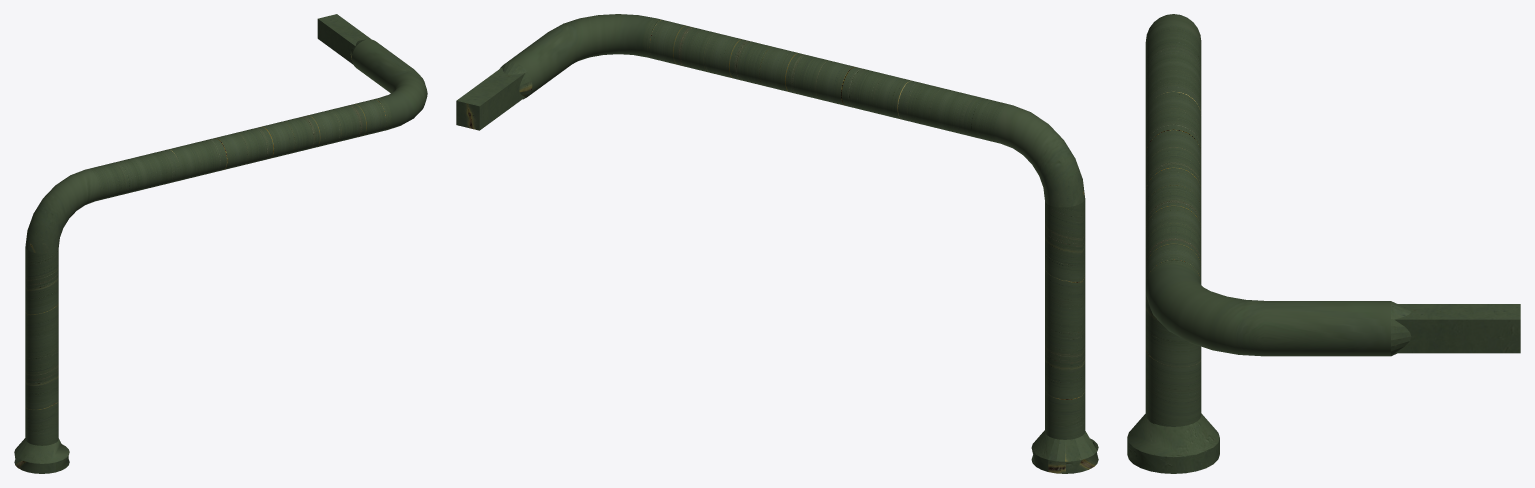
File: 引风大窑连接管.glb
3 renders of one model, left to right at view 1: azimuth 30°, elevation 25°; view 2: azimuth 150°, elevation 25°; view 3: azimuth 270°, elevation 25°, orthographic. The views are drawn at different scales.
Visible parts, largest first — view 1: root; view 2: root; view 3: root.
Part boxes in pixels (<box>): root: <box>14,14,427,473</box>; root: <box>456,14,1098,473</box>; root: <box>1127,14,1520,473</box>.
Size of the model in its own units: 4.45 by 2.79 by 2.12.
1 material, 1 textured.
